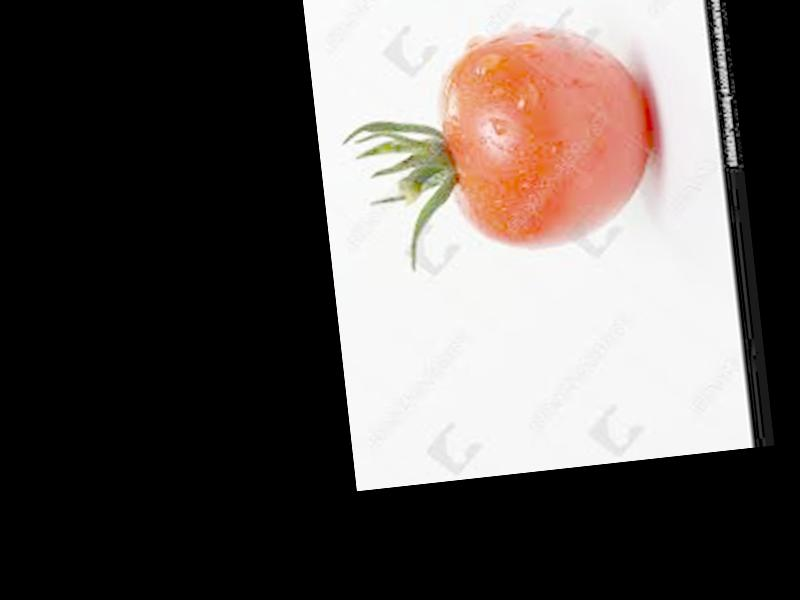Tomato: (435, 17, 661, 257)
